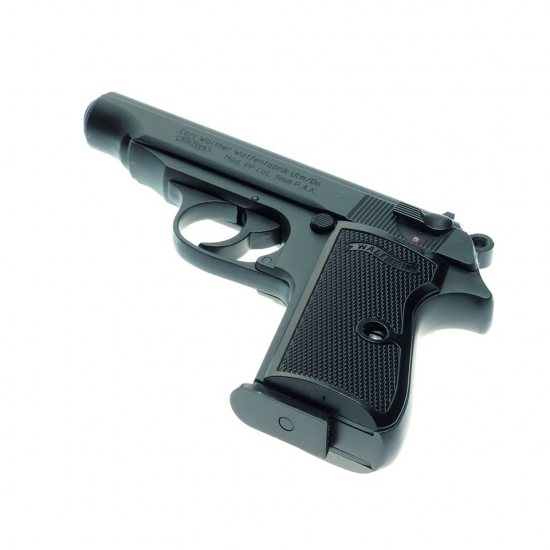gun: (73, 79, 514, 493)
